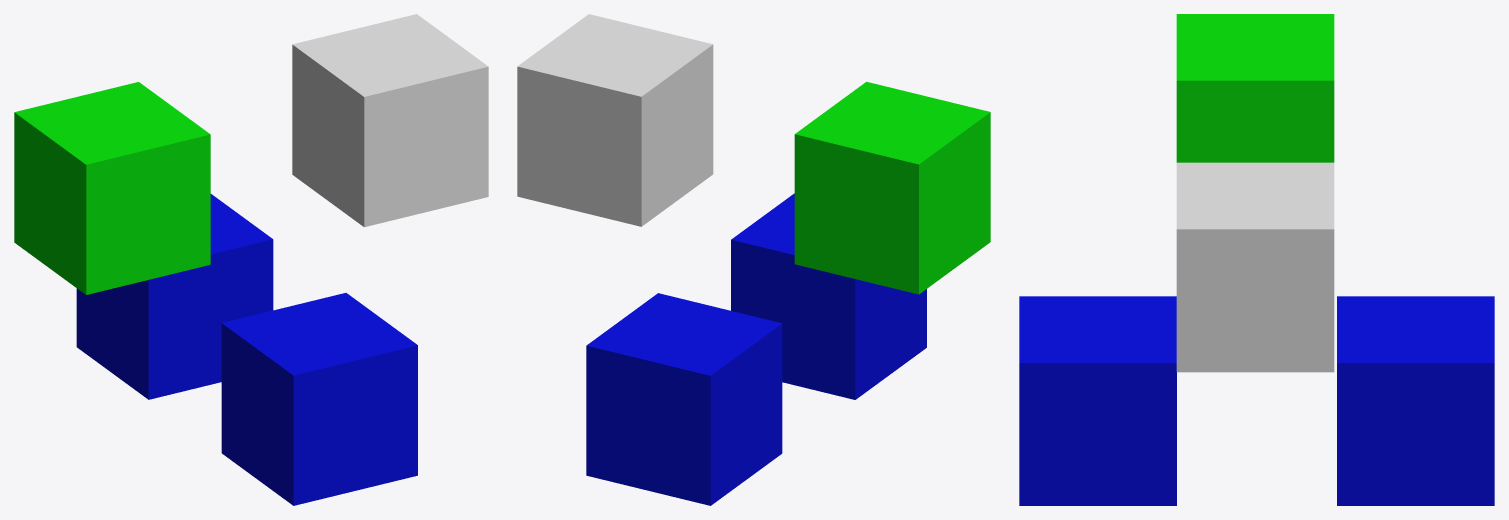
File: testing.glb
The picture shows the model from 3 angles, left to right: view 1: azimuth 30°, elevation 25°; view 2: azimuth 150°, elevation 25°; view 3: azimuth 270°, elevation 25°; orthographic projection. The views are drawn at different scales.
Visible parts, largest first — view 1: Cube; view 2: Cube; view 3: Cube.
Part boxes in pixels (x1=…): Cube: x1=14, y1=14, x2=488, y2=505; Cube: x1=517, y1=14, x2=990, y2=505; Cube: x1=1019, y1=14, x2=1494, y2=505.
Bounding box in the file's own units: 6.46 × 4.94 × 6.03.
